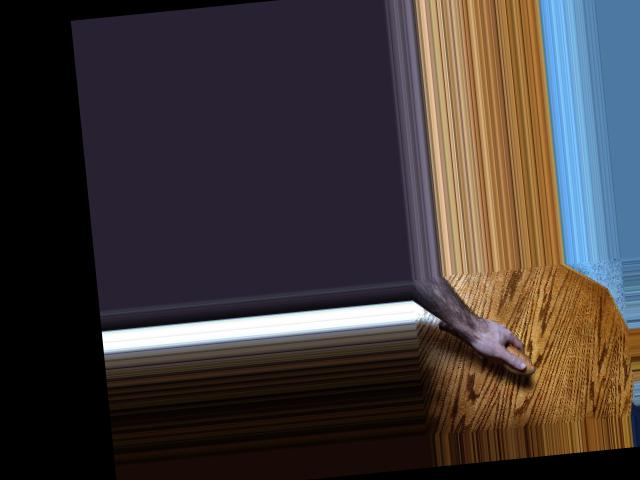sweet_potato: (436, 313, 537, 385)
